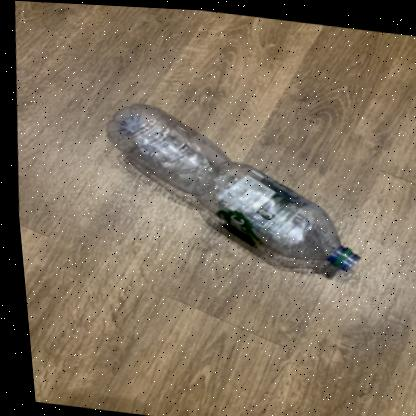Plastic: (104, 101, 354, 266)
